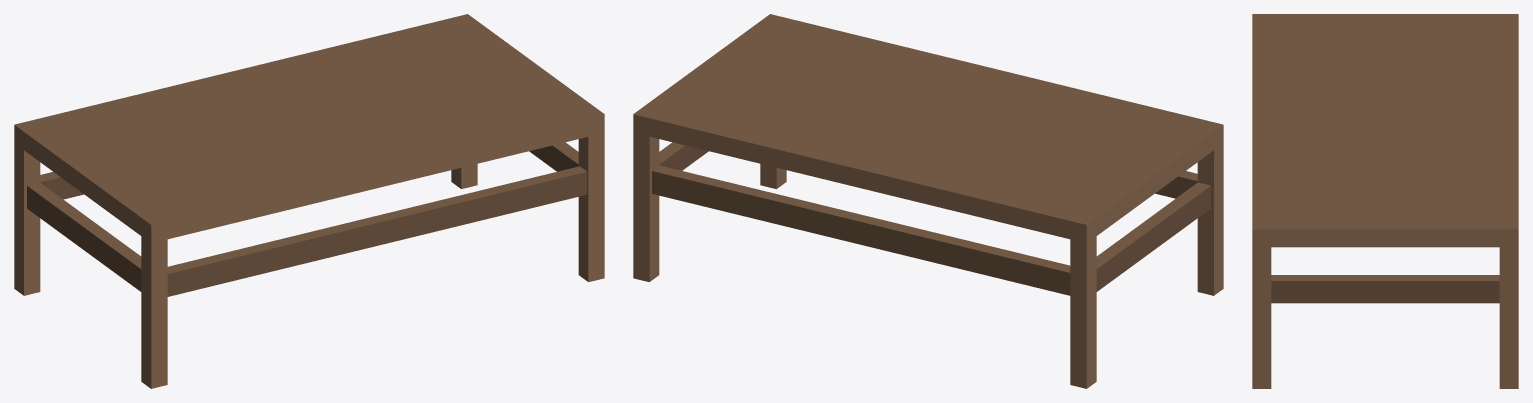
File: small table.fbx
The picture shows the model from 3 angles, left to right: view 1: azimuth 30°, elevation 25°; view 2: azimuth 150°, elevation 25°; view 3: azimuth 270°, elevation 25°; orthographic projection. The views are drawn at different scales.
Parts seen in each view (by area): view 1: TVTable; view 2: TVTable; view 3: TVTable.
Part boxes in pixels (box(x1,y1,x2,y2)): TVTable: box(14, 14, 604, 388); TVTable: box(633, 14, 1223, 388); TVTable: box(1252, 14, 1518, 388).
Bounding box in the file's own units: 453 × 157 × 237.
